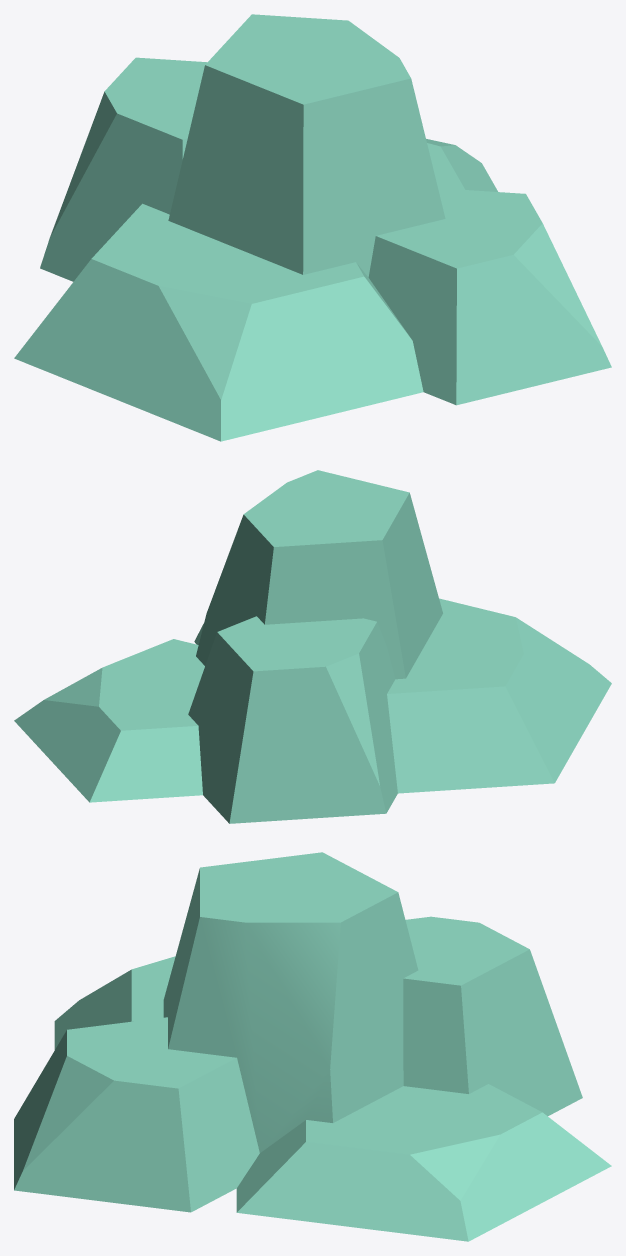
File: detail_rocksLarge.glb
3 views of the same model, one above another, from view 1: azimuth 30°, elevation 25°; view 2: azimuth 150°, elevation 25°; view 3: azimuth 270°, elevation 25° (orthographic). The views are drawn at different scales.
Visible parts, largest first — view 1: detail_rocksLarge; view 2: detail_rocksLarge; view 3: detail_rocksLarge.
Boxes of the visible parts, <box> form: detail_rocksLarge: <box>14,14,611,441</box>; detail_rocksLarge: <box>14,470,611,823</box>; detail_rocksLarge: <box>14,852,611,1241</box>.
Bounding box in the file's own units: 1 × 0.4186 × 1.
